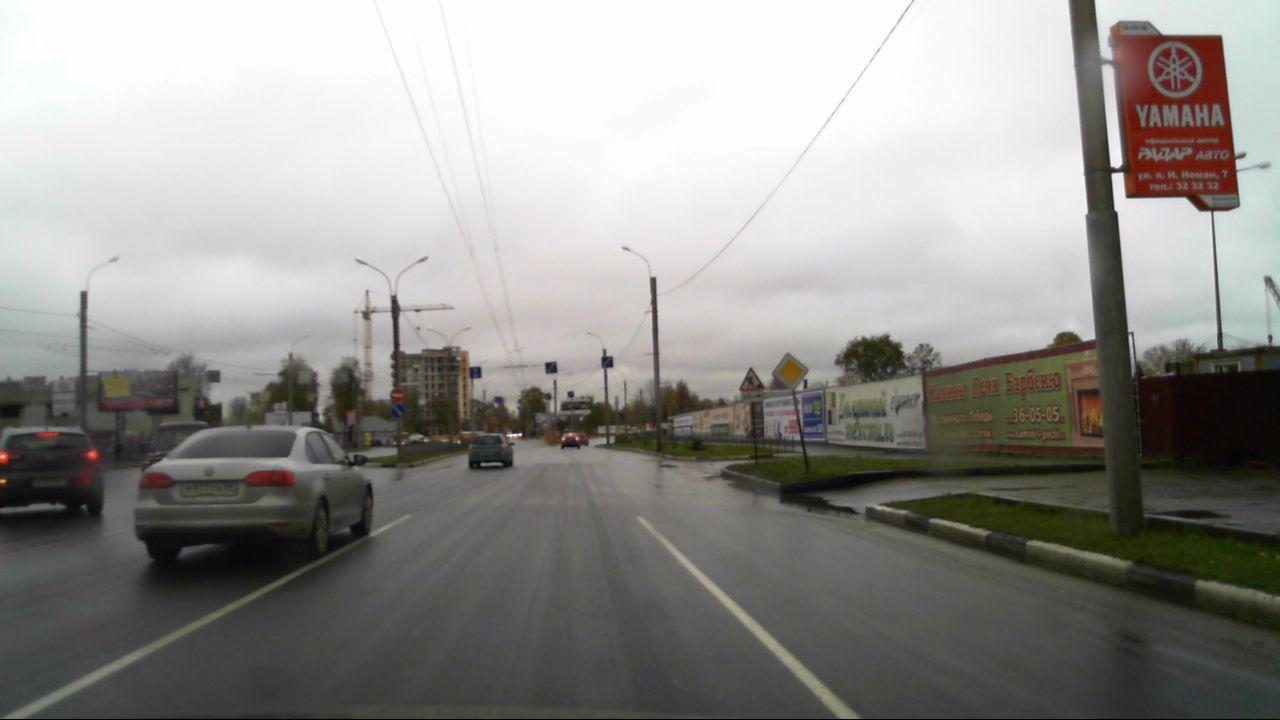road_sign: (772, 352, 809, 390), (739, 367, 765, 391), (391, 403, 406, 417), (390, 388, 404, 402)
